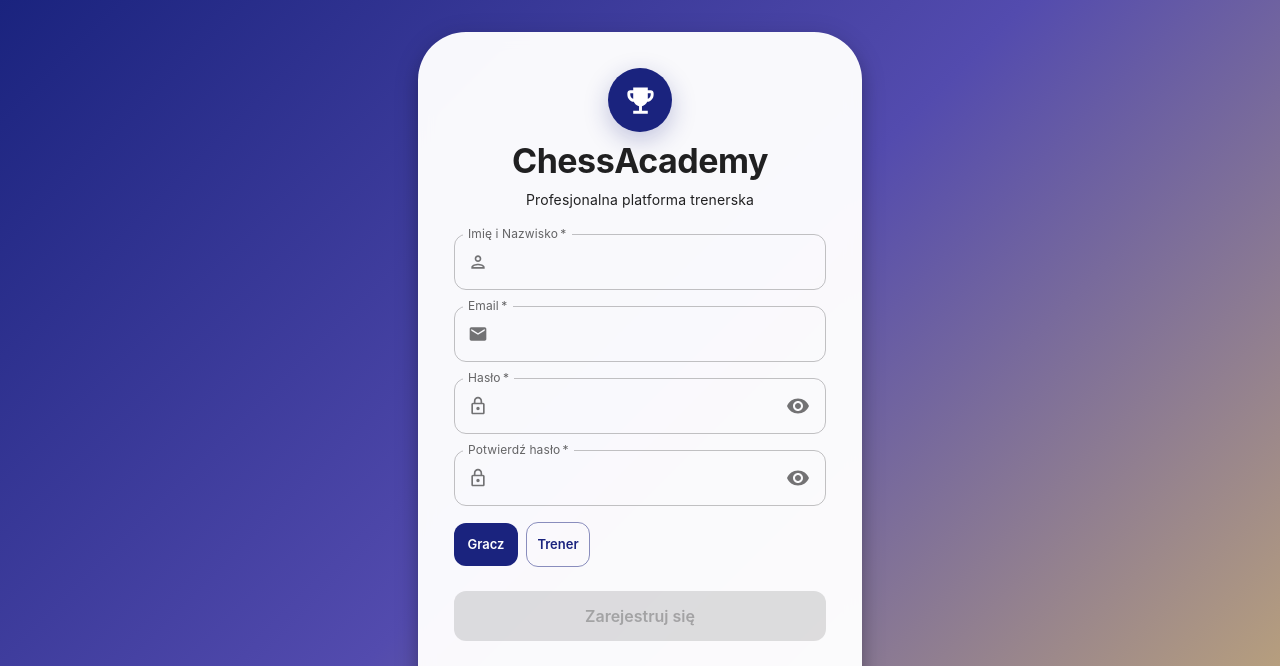
it: RegisterView › shows error for invalid email
In the field labelled "Email *": {"x": 661, "y": 334} x1=496 y1=306 x2=826 y2=362, type "invalid-email"
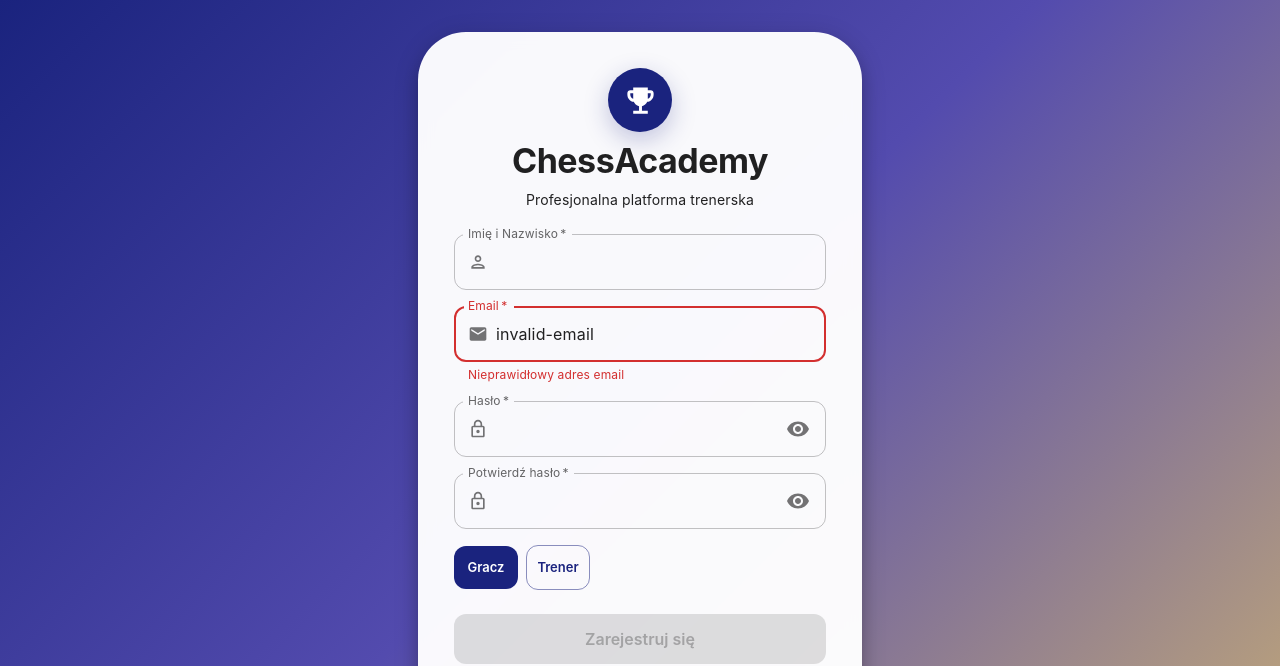
Result: the text "Nieprawidłowy adres email" is shown at x1=468 y1=367 x2=624 y2=382
